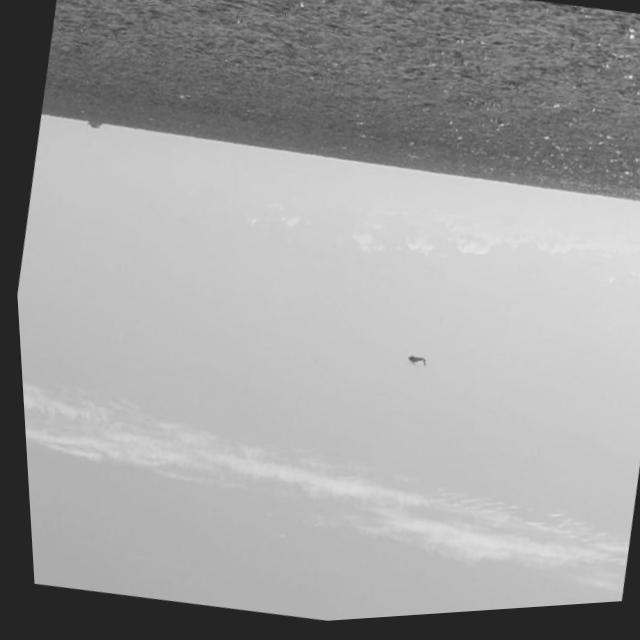helikopter: (386, 341, 443, 401)
